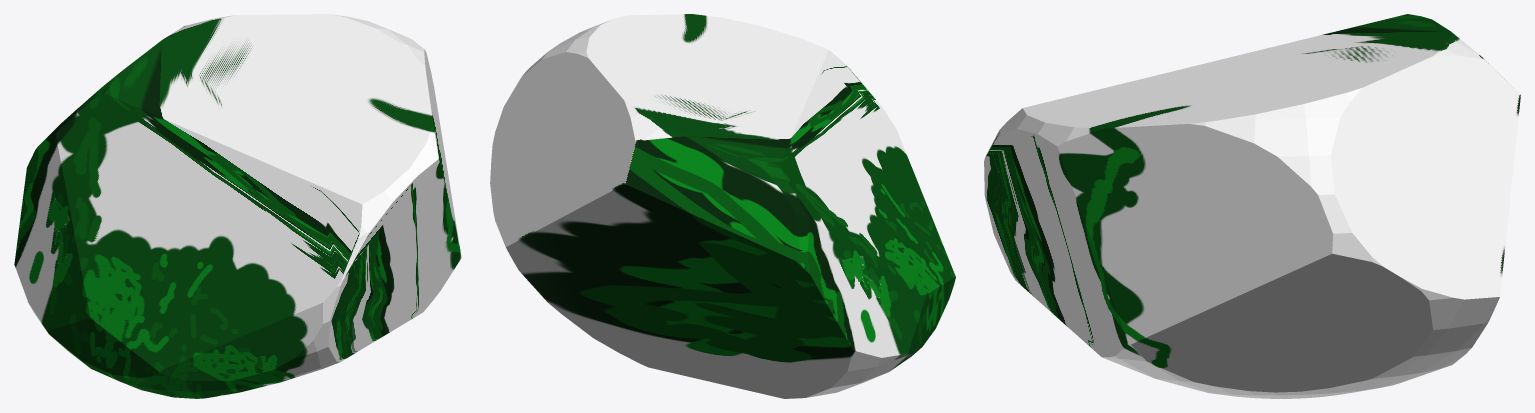
File: Rock 6.glb
3 views of the same model, side by side, from view 1: azimuth 30°, elevation 25°; view 2: azimuth 150°, elevation 25°; view 3: azimuth 270°, elevation 25° (orthographic). The views are drawn at different scales.
Visible parts, largest first — view 1: Sphere; view 2: Sphere; view 3: Sphere.
Boxes of the visible parts, x1,y1,x2,y2 form: Sphere: (14,14,461,398); Sphere: (490,14,955,398); Sphere: (984,14,1520,398).
Bounding box in the file's own units: 1.72 × 1.15 × 1.63.
1 material, 1 textured.
